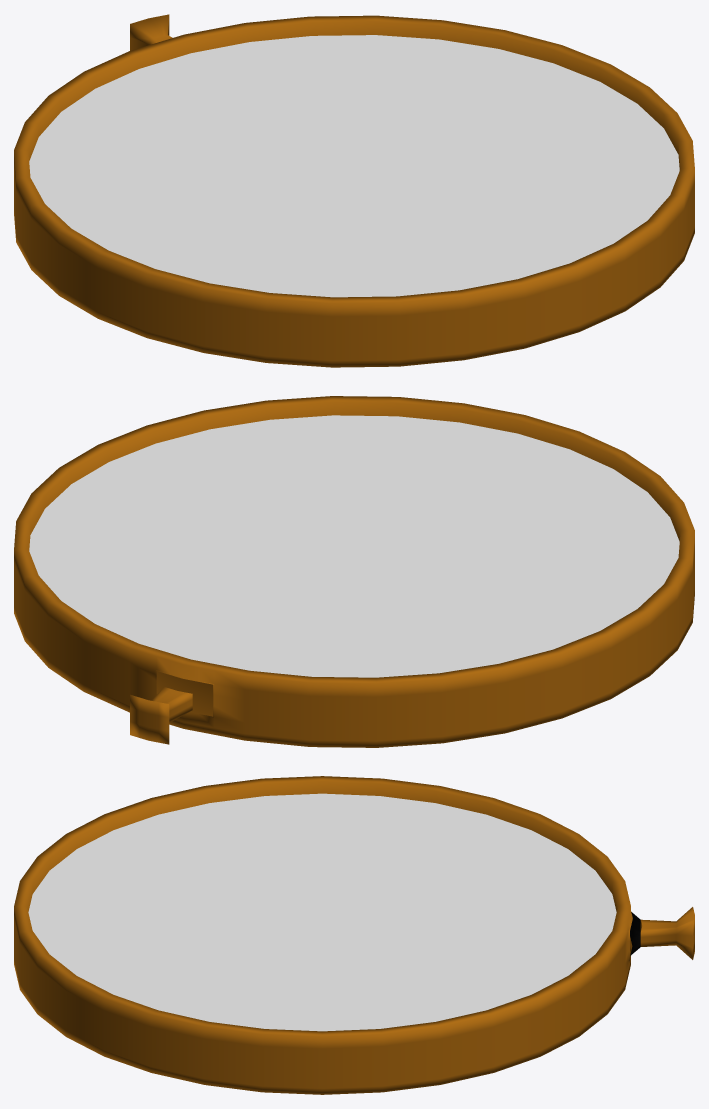
The model's file is reloj 1.fbx.
3 views of the same model, one above another, from view 1: azimuth 30°, elevation 25°; view 2: azimuth 150°, elevation 25°; view 3: azimuth 270°, elevation 25° (orthographic). The views are drawn at different scales.
Visible parts, largest first — view 1: Circle; view 2: Circle; view 3: Circle.
Boxes of the visible parts, <box> form: Circle: <box>14,14,694,367</box>; Circle: <box>14,396,694,747</box>; Circle: <box>14,776,694,1094</box>.
Size of the model in its own units: 234 by 24.27 by 258.
